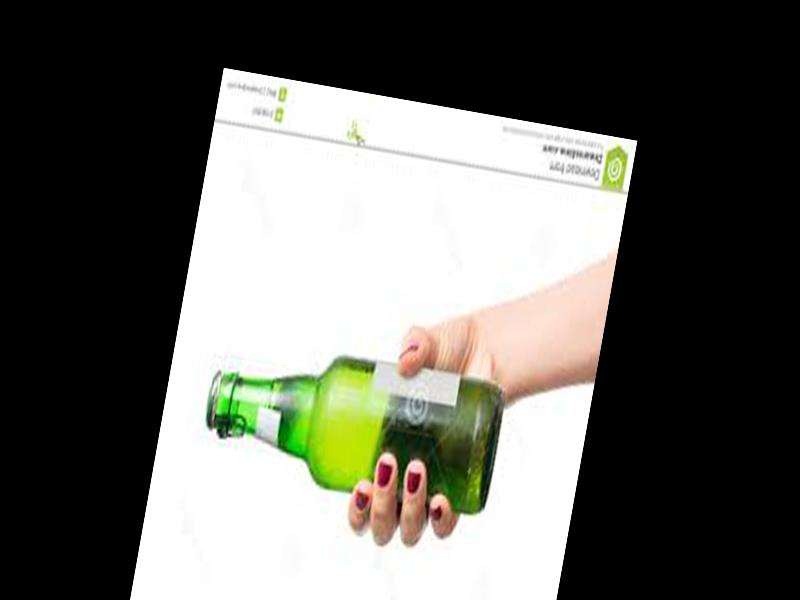Beer: (194, 328, 509, 517)
